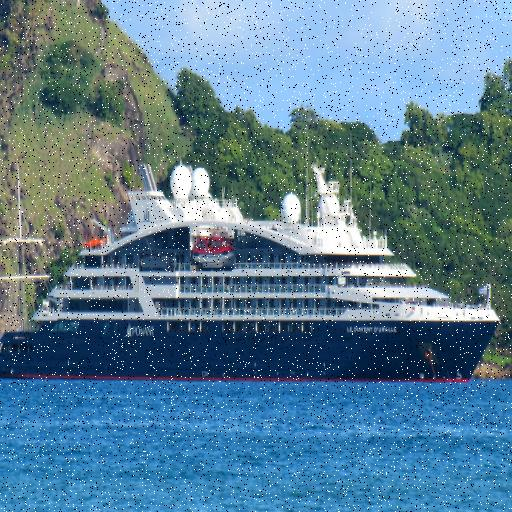cruises: (1, 155, 509, 393)
